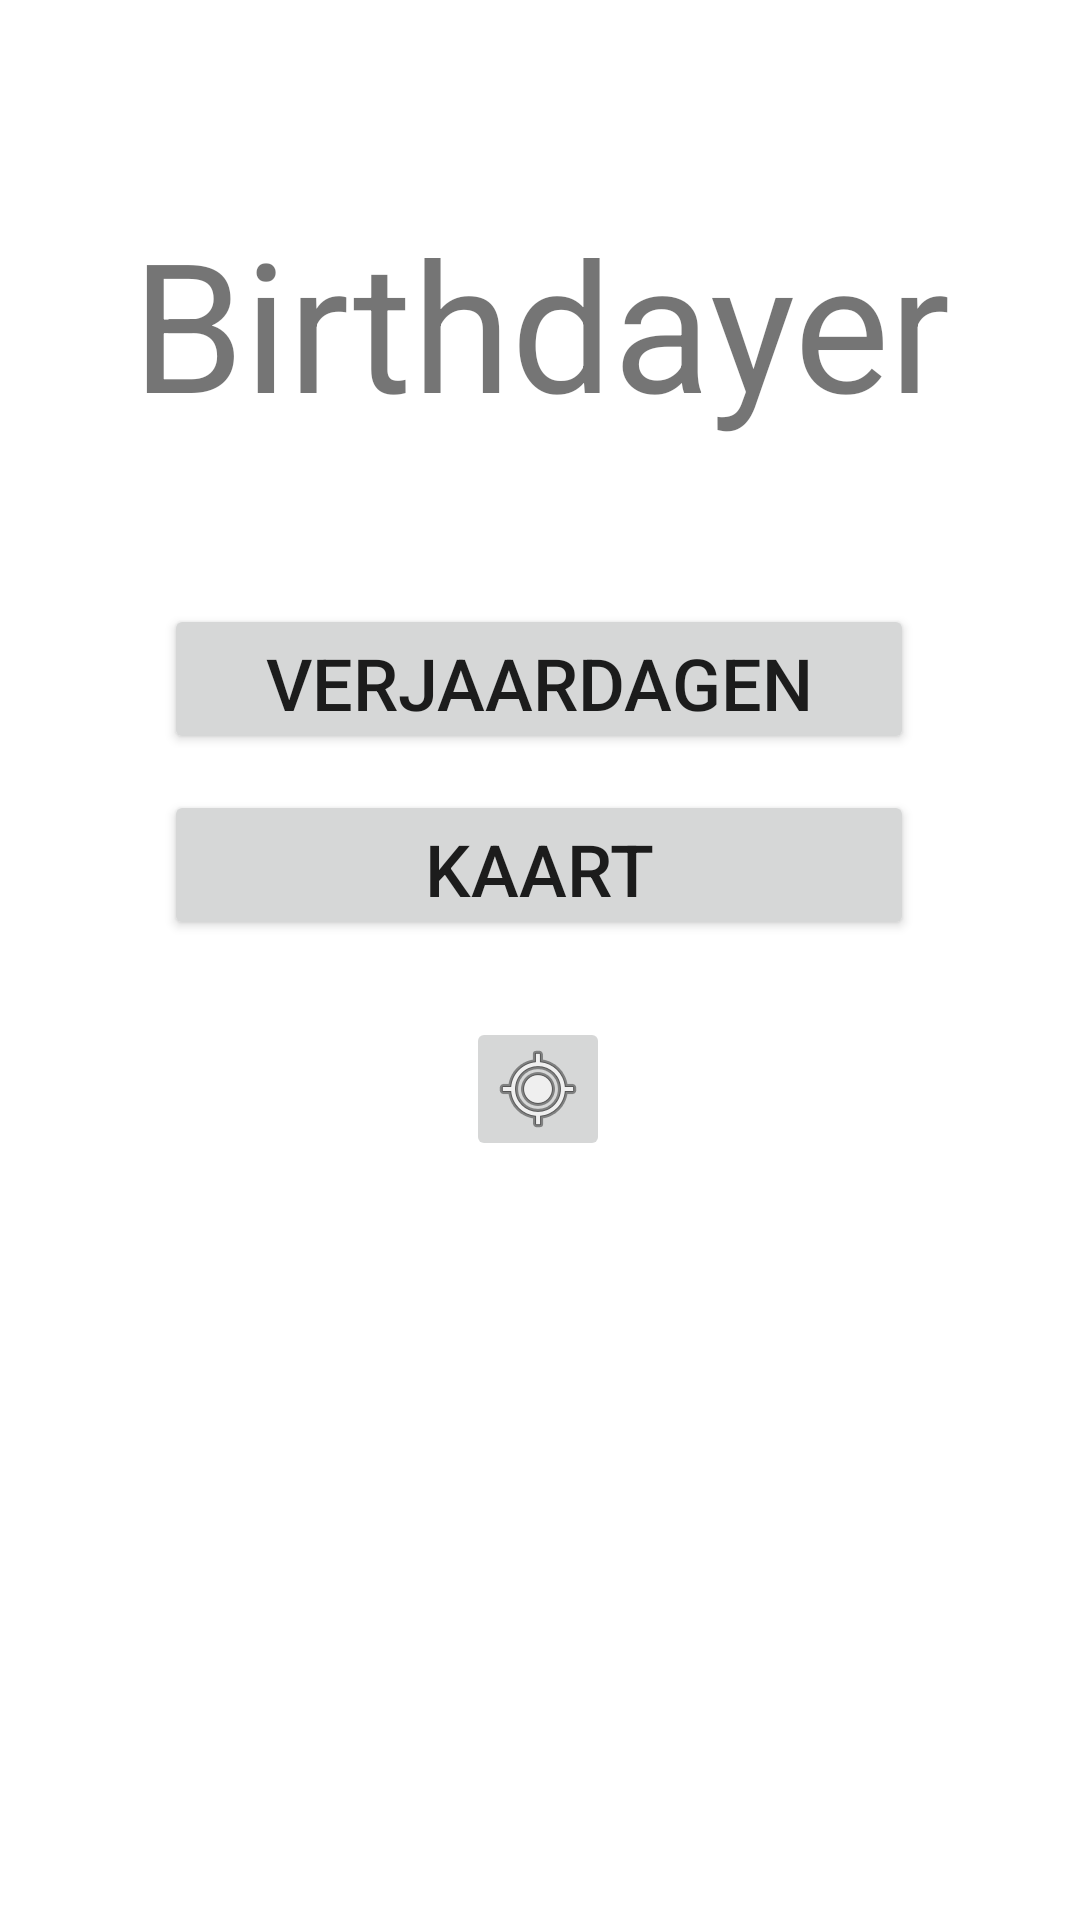

Screen size 1080×1920. Icon name, then its center in pixels as (x,y):
mylocation: (538,1089)
